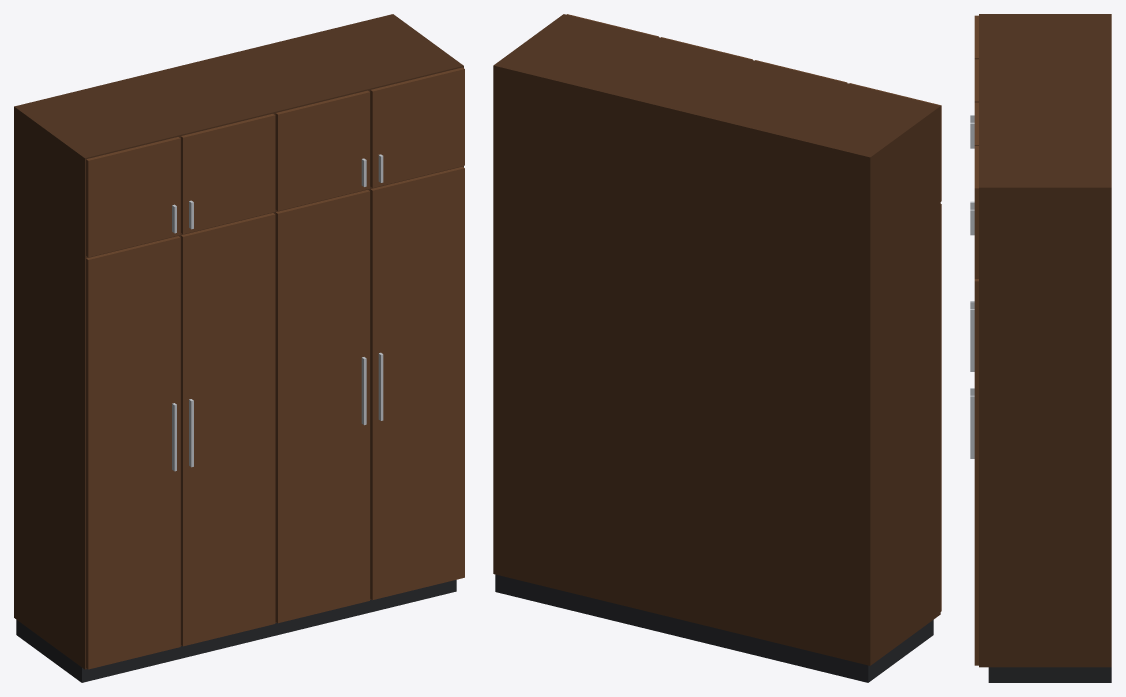
Rendered from gardirop-1800-ceviz.glb.
3 renders of one model, left to right at view 1: azimuth 30°, elevation 25°; view 2: azimuth 150°, elevation 25°; view 3: azimuth 270°, elevation 25°, orthographic. The views are drawn at different scales.
Parts seen in each view (by area): view 1: mobilya; view 2: mobilya; view 3: mobilya.
Boxes of the visible parts, x1=… form: mobilya: x1=14, y1=14, x2=464, y2=682; mobilya: x1=493, y1=14, x2=941, y2=682; mobilya: x1=970, y1=14, x2=1111, y2=682.
Bounding box in the file's own units: 1.8 × 2.4 × 0.62.
